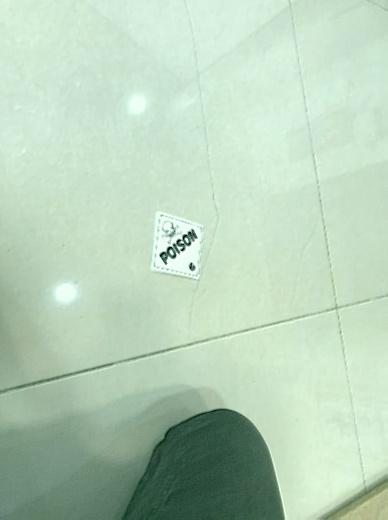poison: (153, 214, 204, 280)
